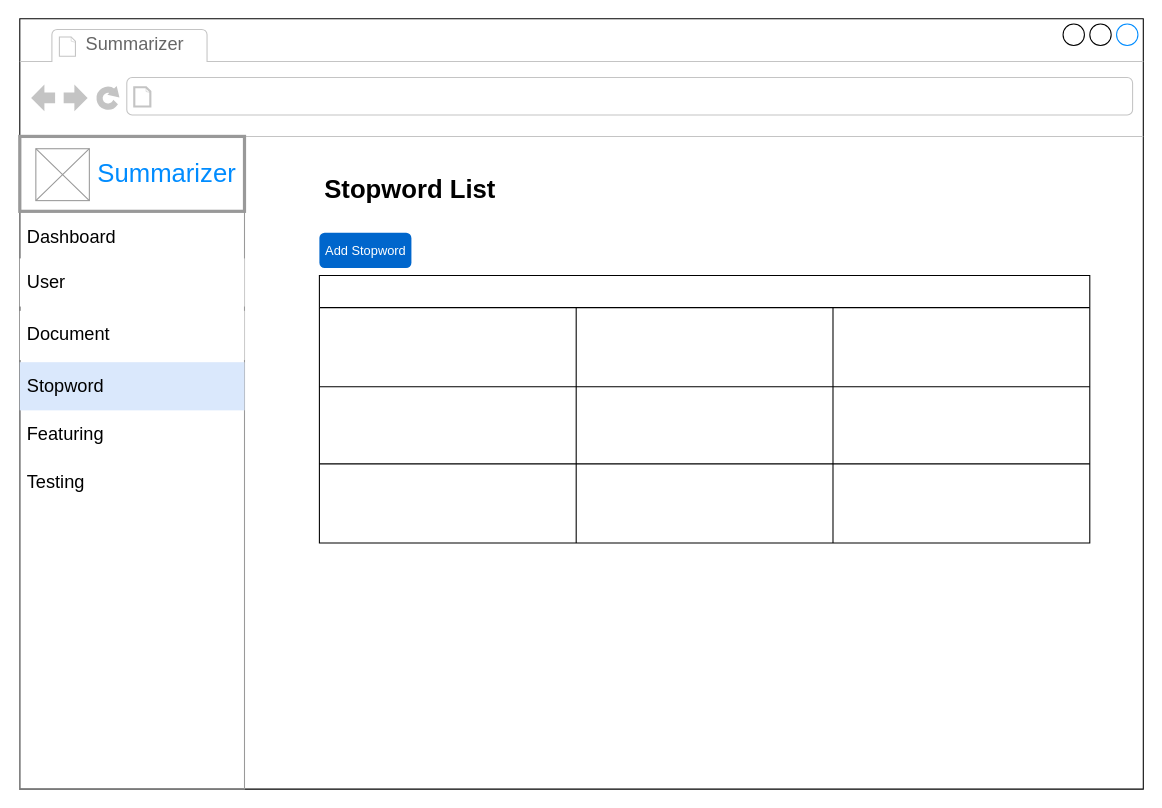
Image size: 1162x808. Some labels were removed from this diagram. Here are the shapes that lost their labels. From the top down, the centre of each, then its label:
pixel 292 96: https://
pixel 704 408: Stopword List Table
